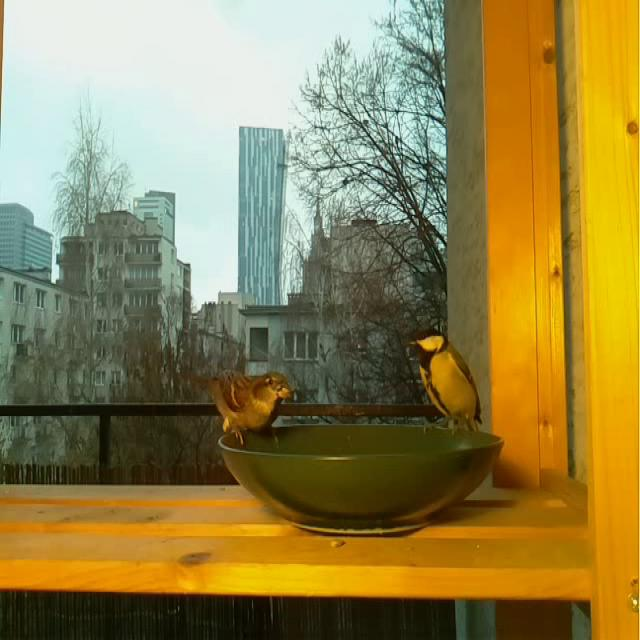Bogatka: (406, 325, 486, 440)
Wrobel: (181, 366, 297, 450)
